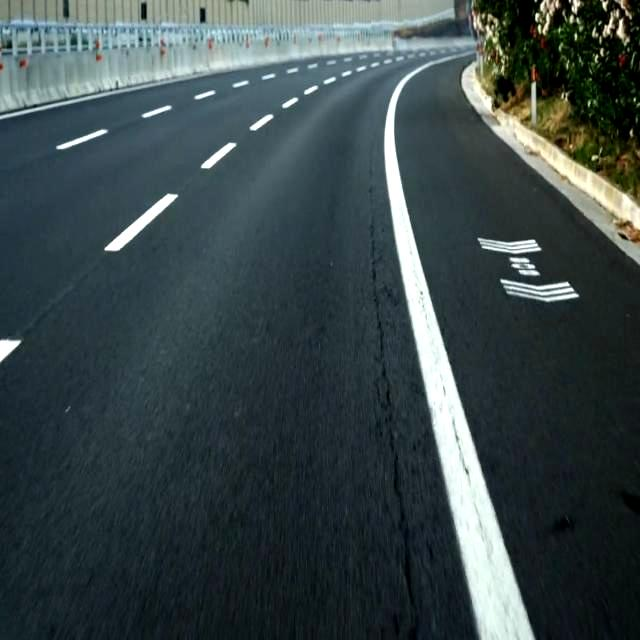lane: (384, 55, 534, 639), (106, 195, 177, 251), (57, 129, 107, 149), (201, 143, 235, 167), (1, 340, 19, 360), (250, 115, 273, 129)
road: (0, 55, 478, 638), (397, 59, 639, 638)
